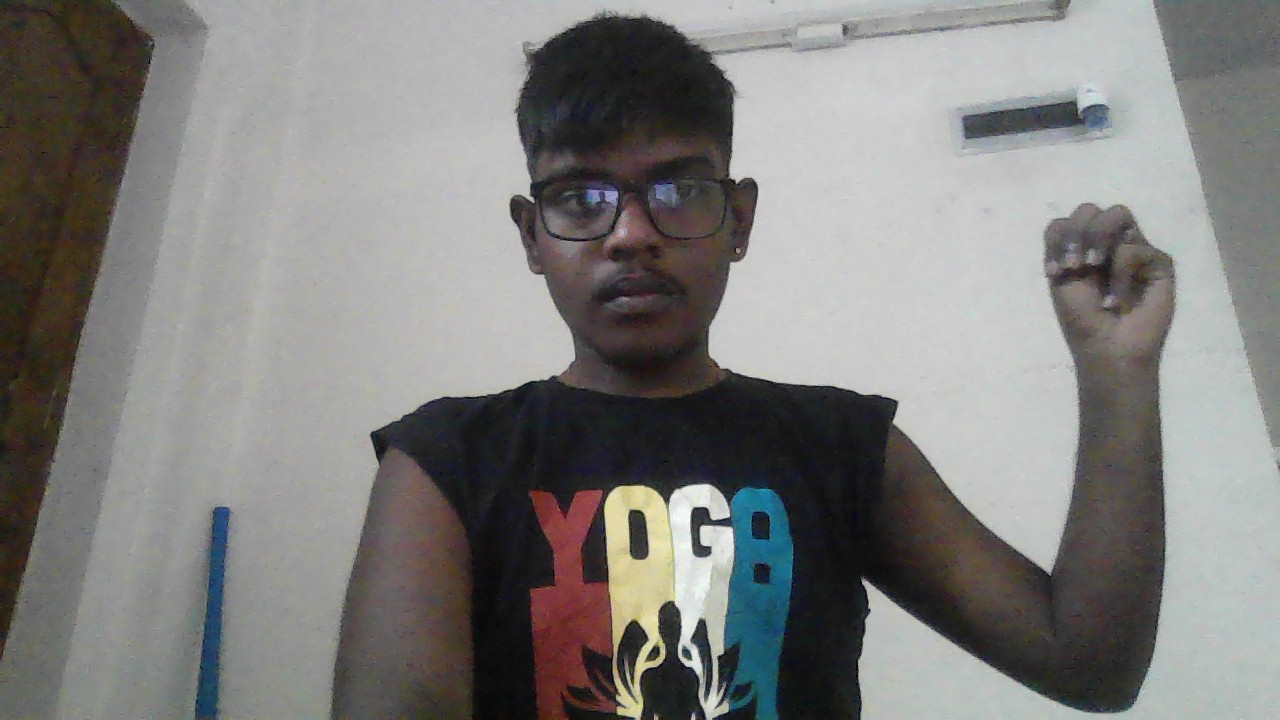M: (1046, 203, 1177, 388)
